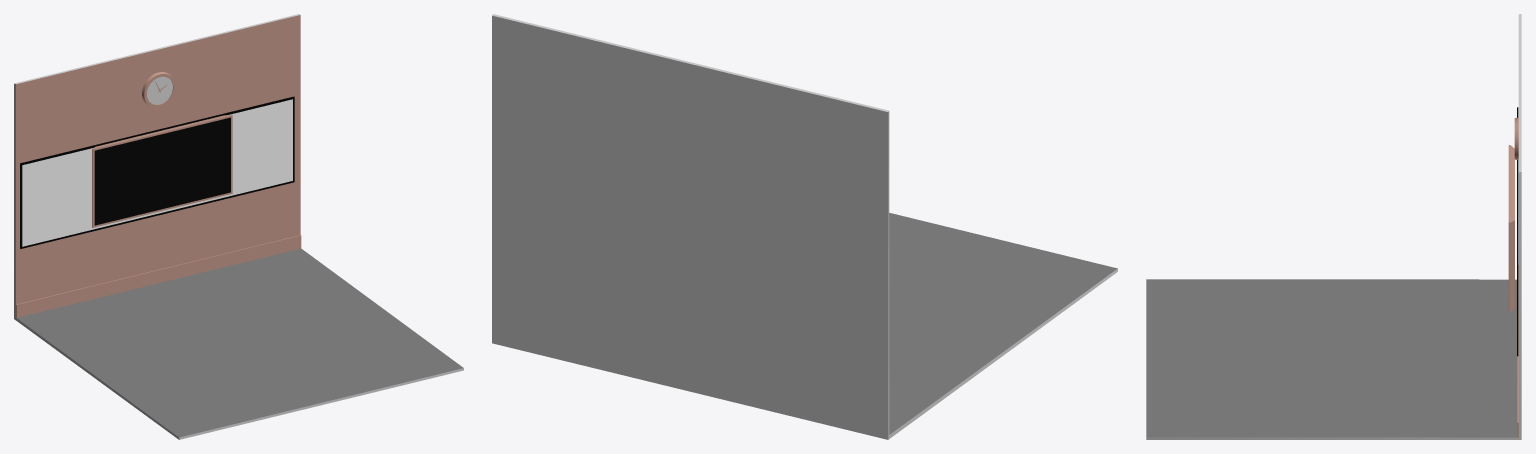
File: Dioramas_classroom.fbx
The picture shows the model from 3 angles, left to right: view 1: azimuth 30°, elevation 25°; view 2: azimuth 150°, elevation 25°; view 3: azimuth 270°, elevation 25°; orthographic projection. The views are drawn at different scales.
Visible parts, largest first — view 1: Floor, Wall, Box003, Box002, Box001, clock; view 2: Box001, Floor; view 3: Floor, Box001, Box002, Box003.
Part boxes in pixels (x1,y1,x2,y2): Floor: (17, 248, 463, 437); Wall: (16, 15, 301, 317); Box003: (20, 96, 294, 248); Box002: (92, 114, 232, 227); Box001: (14, 14, 463, 439); clock: (142, 72, 175, 107); Box001: (492, 14, 1117, 439); Floor: (889, 213, 1117, 434); Floor: (1146, 279, 1517, 437); Box001: (1146, 14, 1521, 439); Box002: (1508, 145, 1514, 311); Box003: (1517, 107, 1518, 356).
Bounding box in the file's own units: 17.89 × 14.11 × 17.93.
